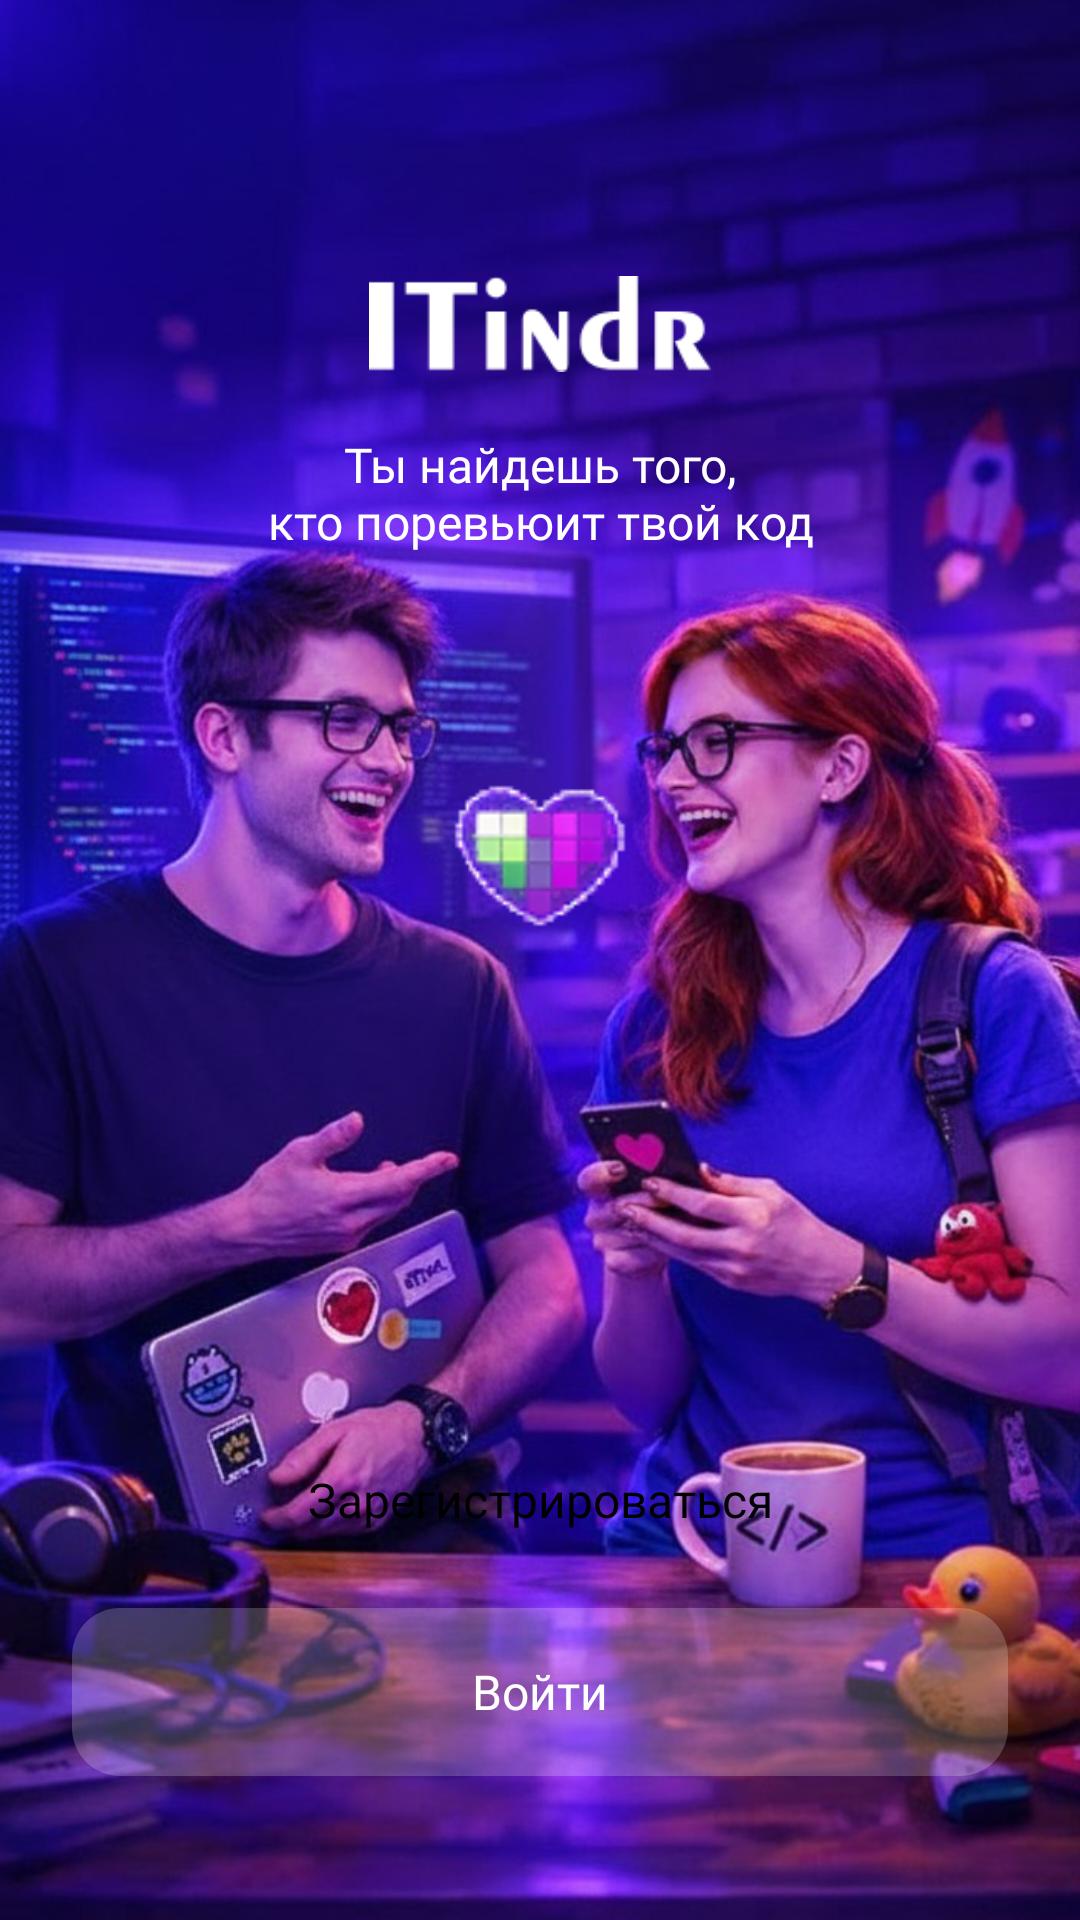

Where to tap for icons on this 1080 x 1920 app screen, as point (x, y):
Сердце: point (540, 861)
